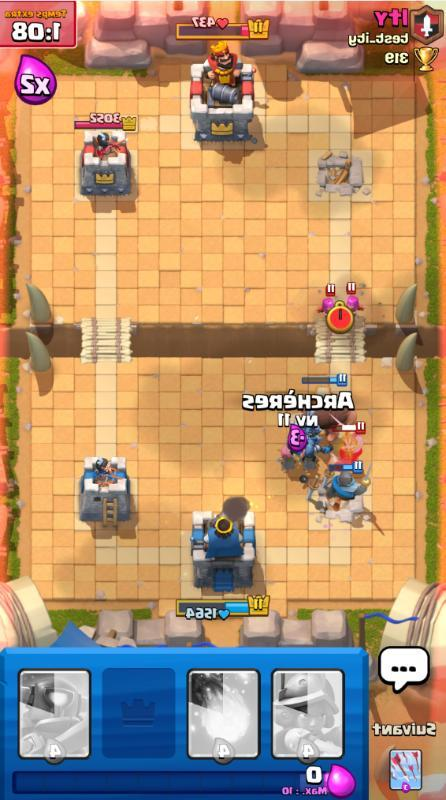archere: (345, 282, 365, 317), (277, 442, 300, 472), (316, 283, 335, 317), (300, 449, 320, 473)
chevalier: (326, 460, 373, 512), (327, 413, 367, 473)
gargouille: (300, 433, 334, 461), (303, 424, 322, 442)
